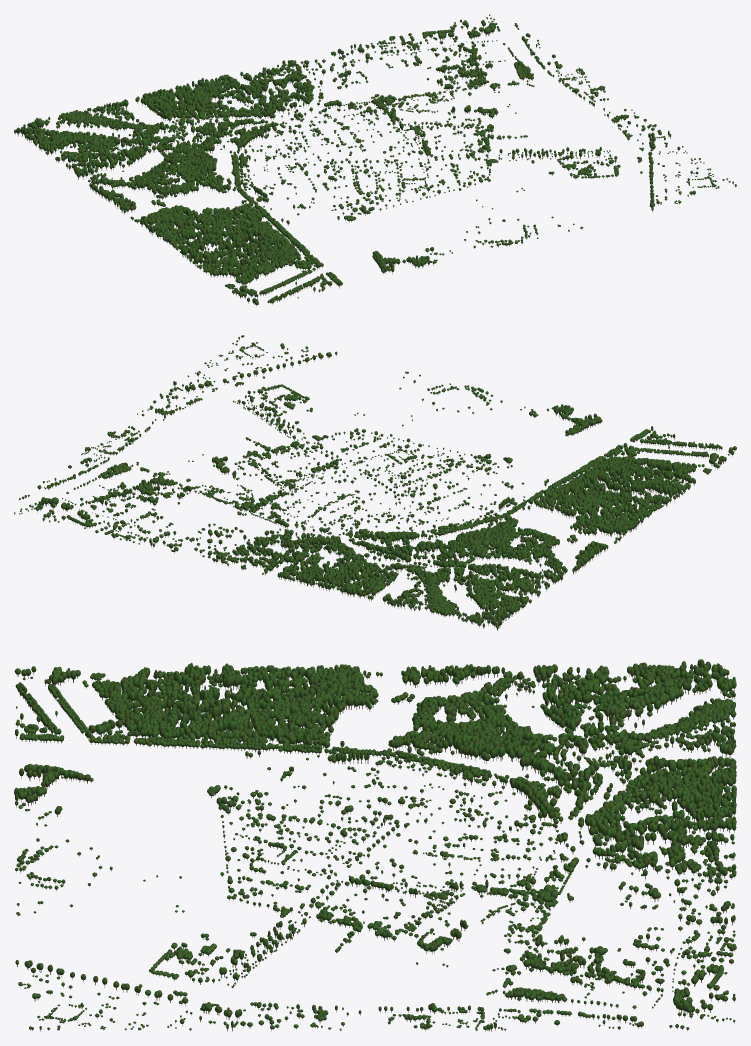
Rendered from trees.glb.
3 renders of one model, top to bottom at view 1: azimuth 30°, elevation 25°; view 2: azimuth 150°, elevation 25°; view 3: azimuth 270°, elevation 25°, orthographic. The views are drawn at different scales.
Parts seen in each view (by area): view 1: bomen; view 2: bomen; view 3: bomen.
Part boxes in pixels (x1,y1,x2,y2): bomen: (14, 14, 736, 306); bomen: (14, 335, 736, 630); bomen: (14, 659, 736, 1031).
Bounding box in the file's own units: 1408 × 36.49 × 1209.
